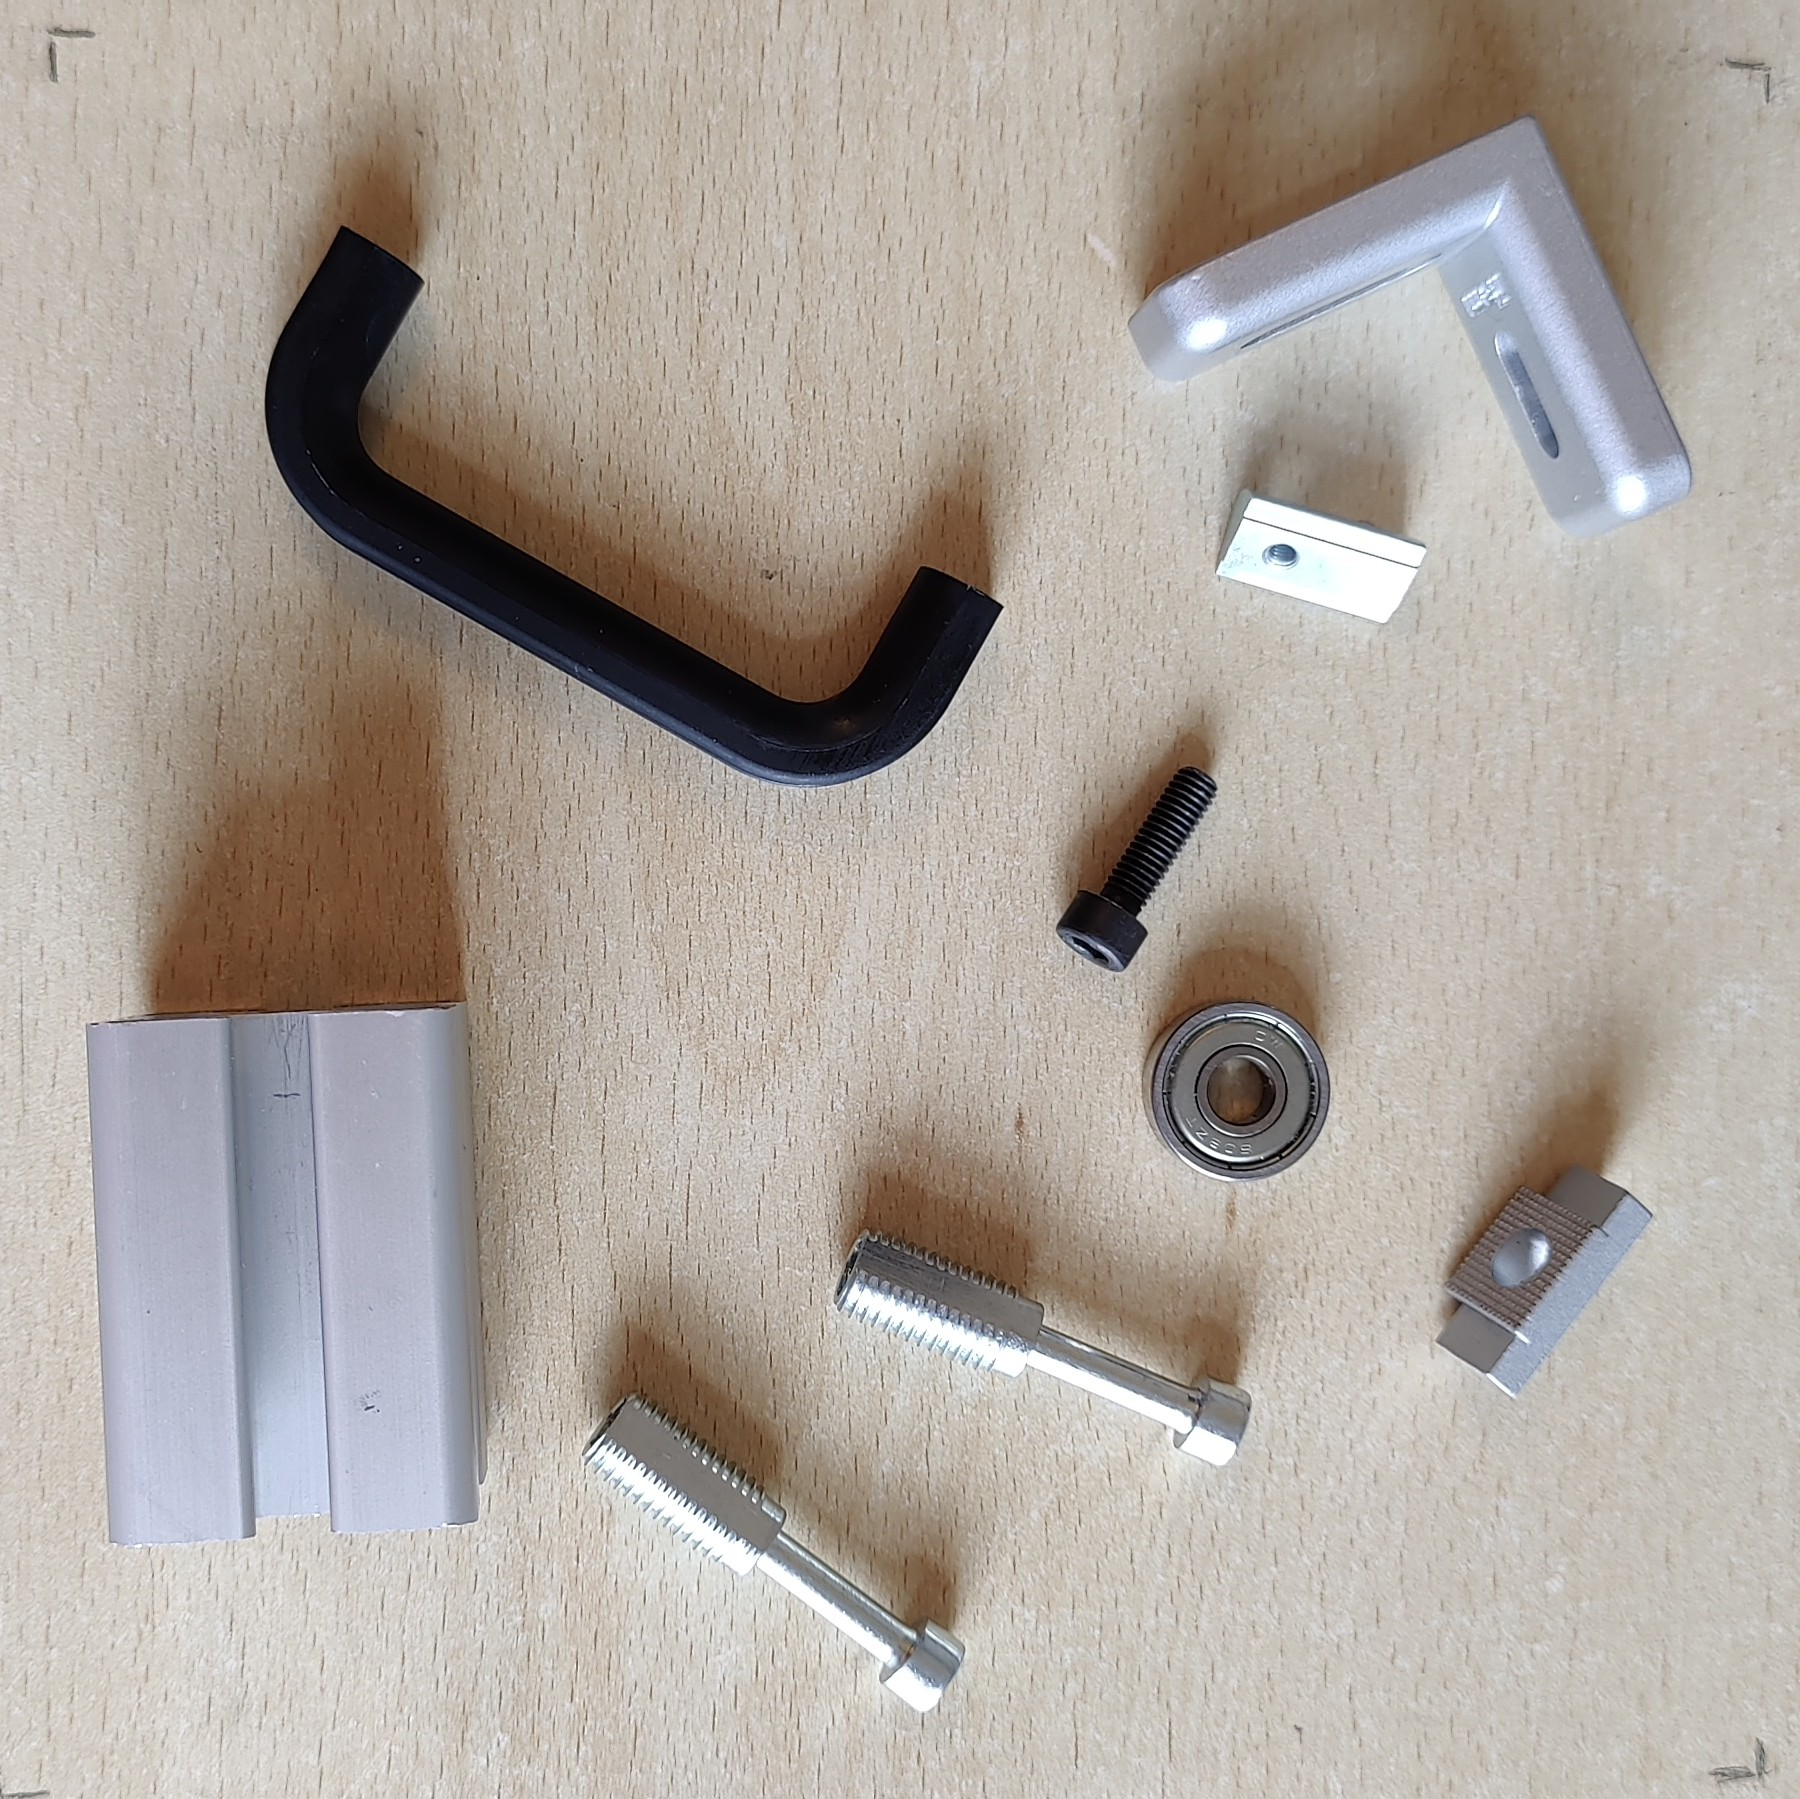Aluminium Extension: (82, 993, 492, 1552)
Ball Bearing: (1140, 1000, 1331, 1185)
Multiwinkel: (1125, 114, 1698, 545)
Pull Handle: (260, 221, 1006, 791)
Shoulder Socket Head Cap Screw: (581, 1387, 968, 1715), (828, 1222, 1253, 1473)
Socket Head Cap Screw: (1051, 761, 1220, 975)
T Nut Square: (1433, 1161, 1653, 1404)
T Spring Nut: (1212, 484, 1431, 633)
